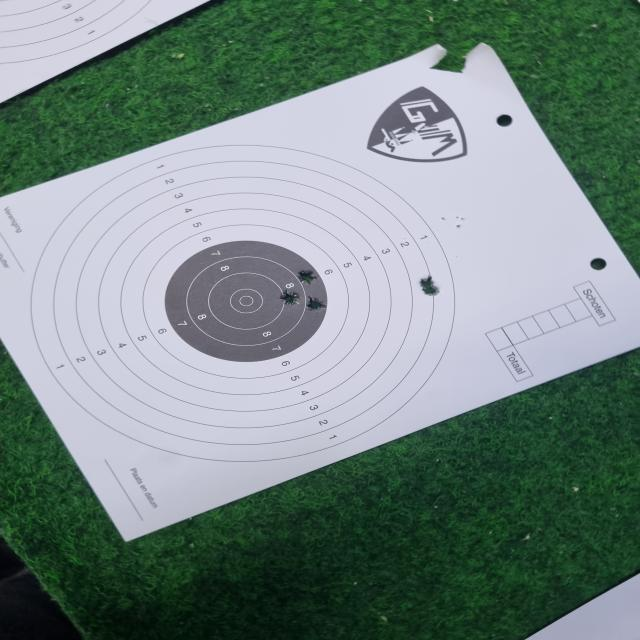2: (419, 275, 434, 287), (422, 286, 438, 296)
7: (296, 269, 318, 286), (306, 296, 327, 312)
9: (280, 290, 300, 306)
Target: (29, 144, 457, 462)
black_contour: (165, 240, 328, 362)
